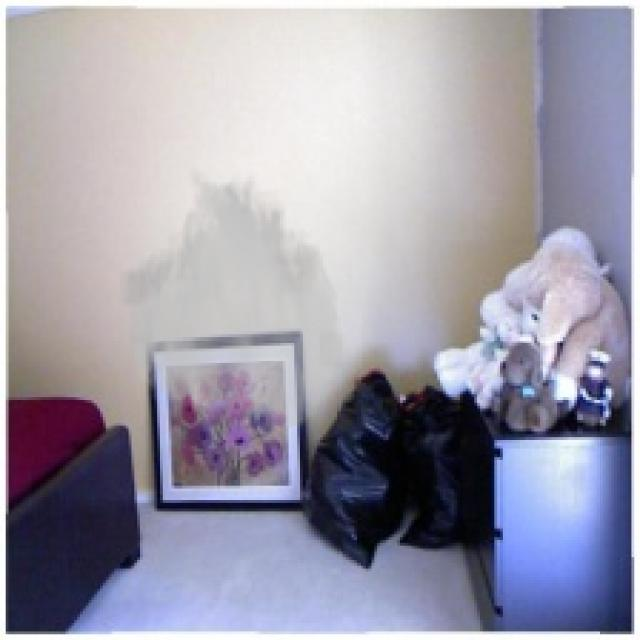smoke: (114, 163, 349, 437)
